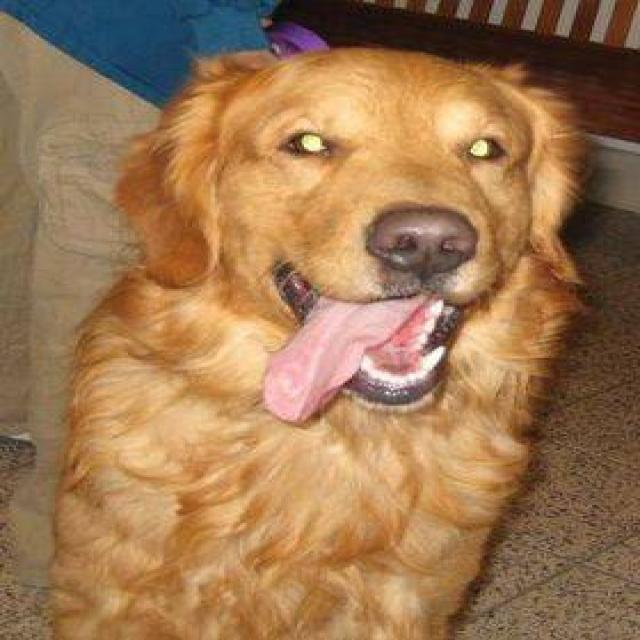dogs: (39, 21, 592, 640)
